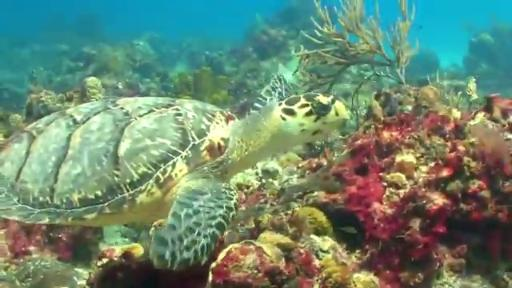Fish: (0, 94, 347, 269)
